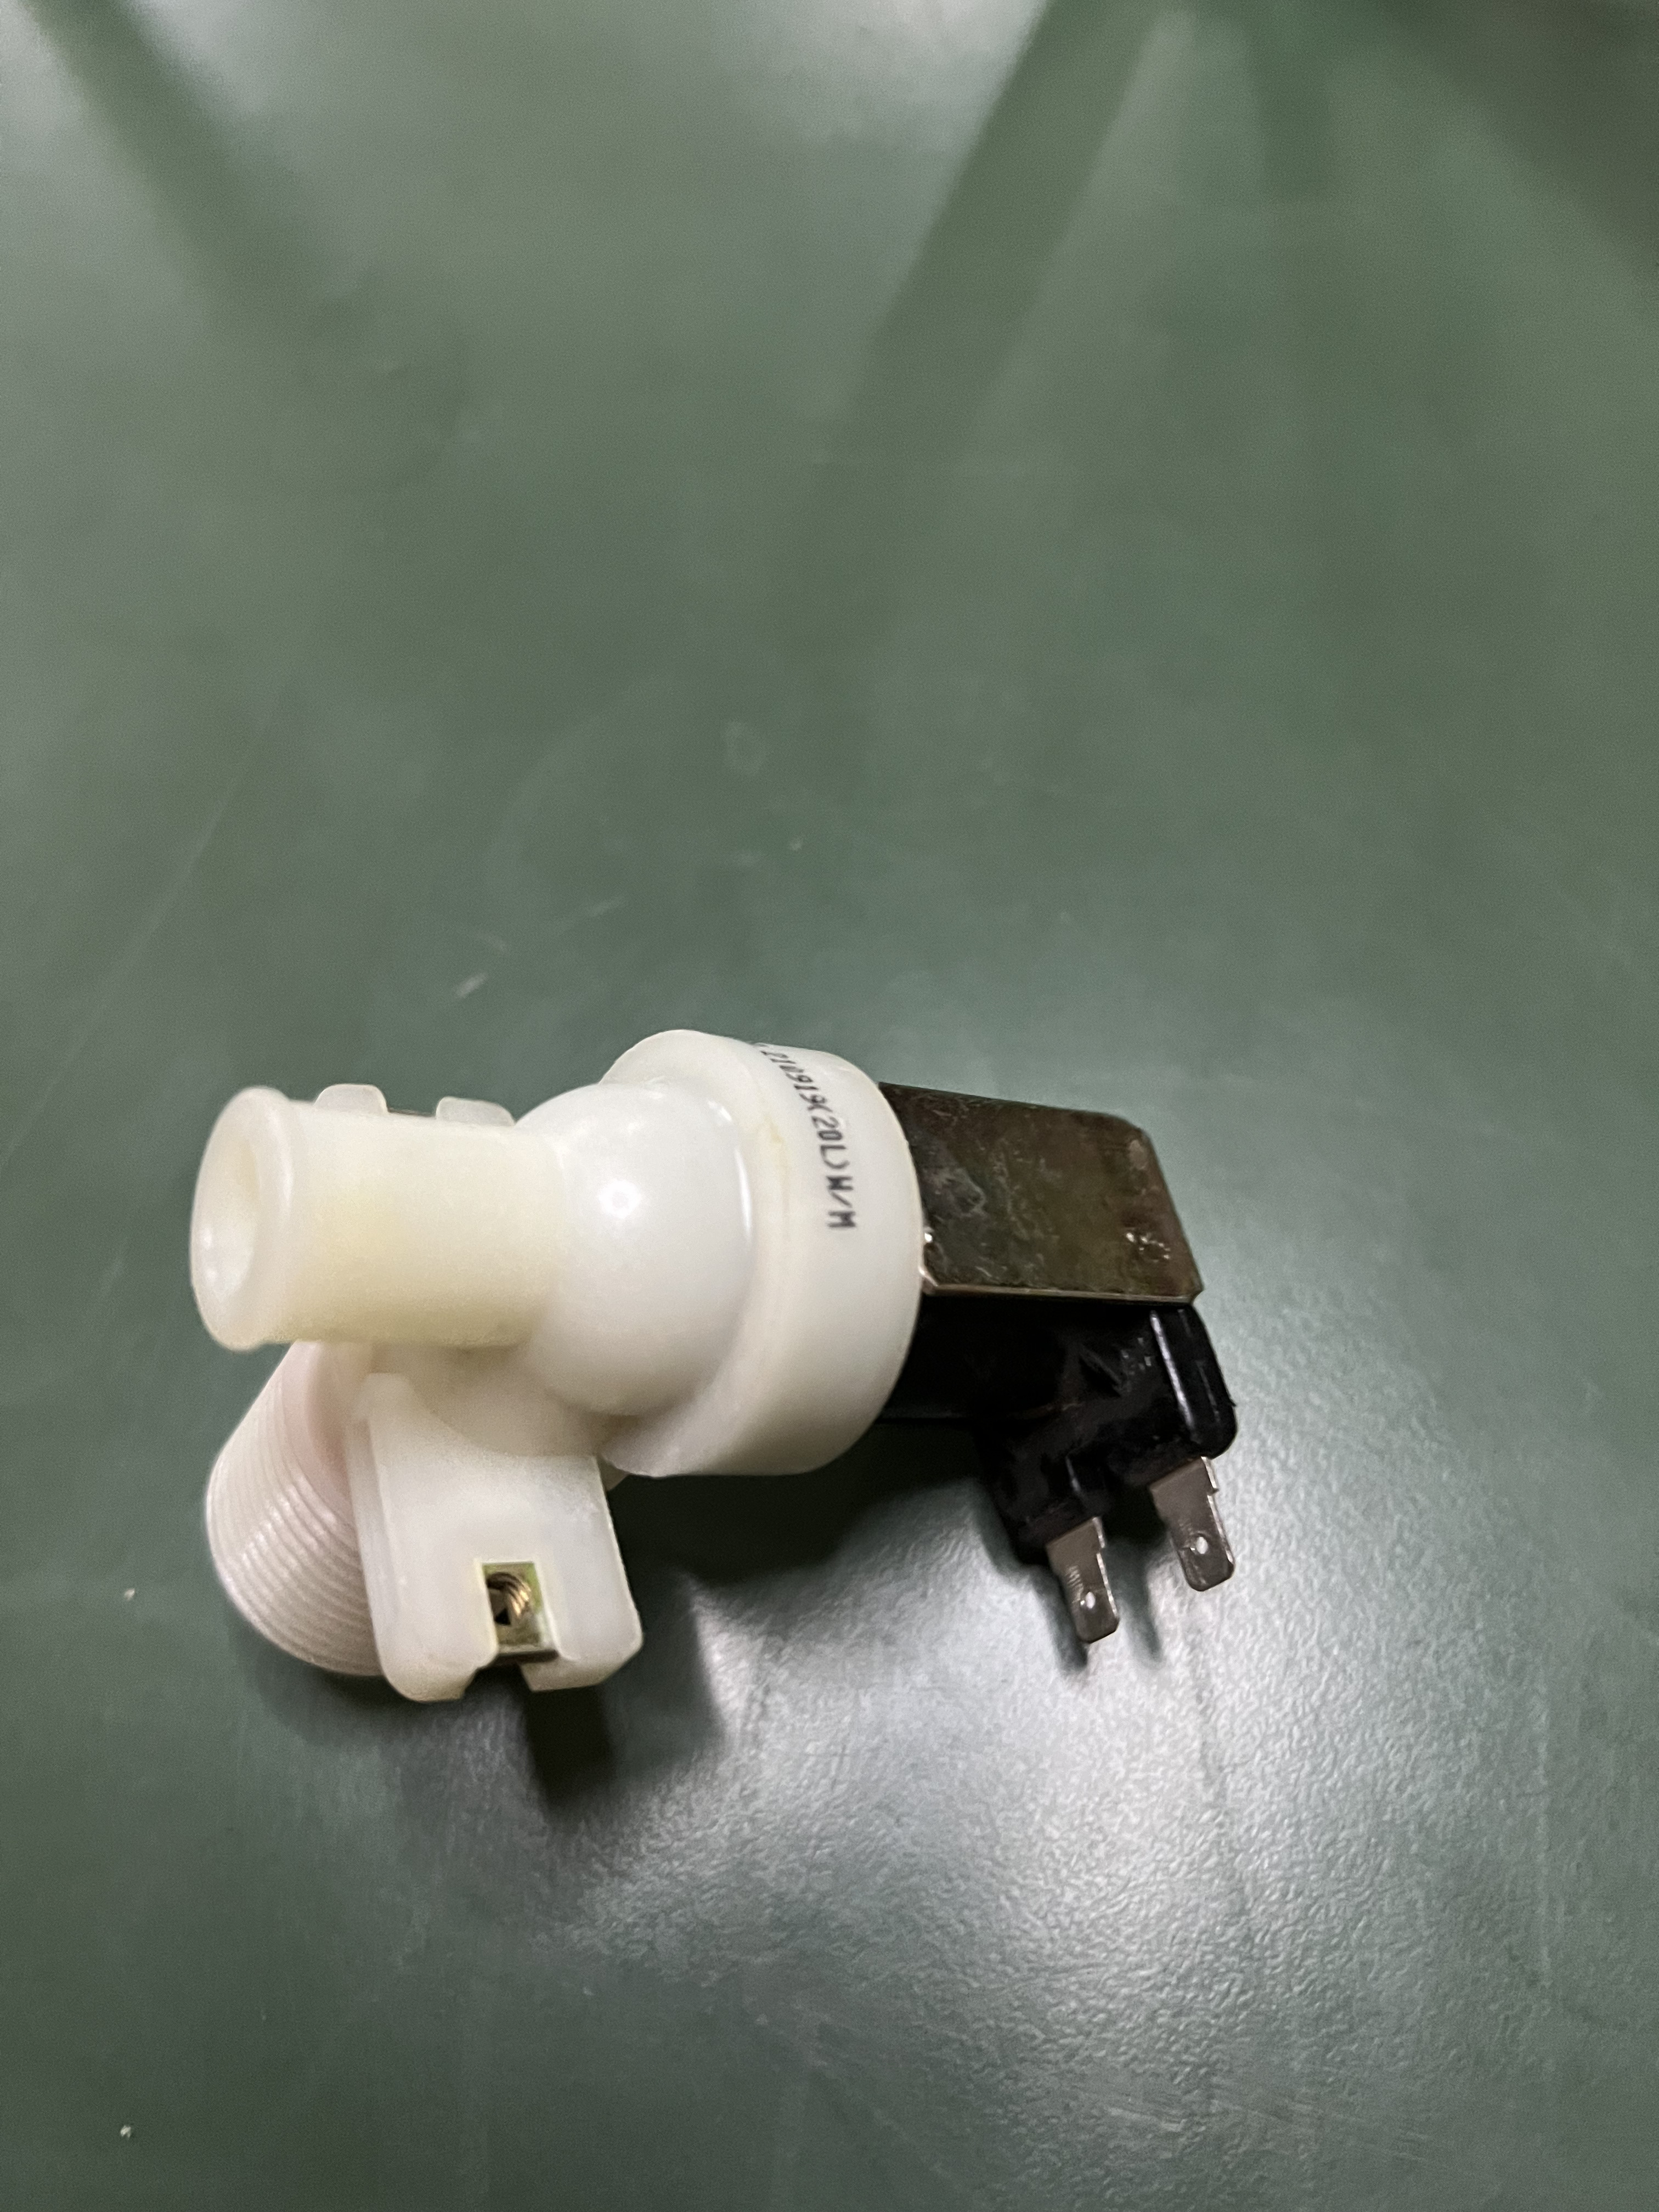godrej_inlet_valves: (149, 985, 1278, 1760)
